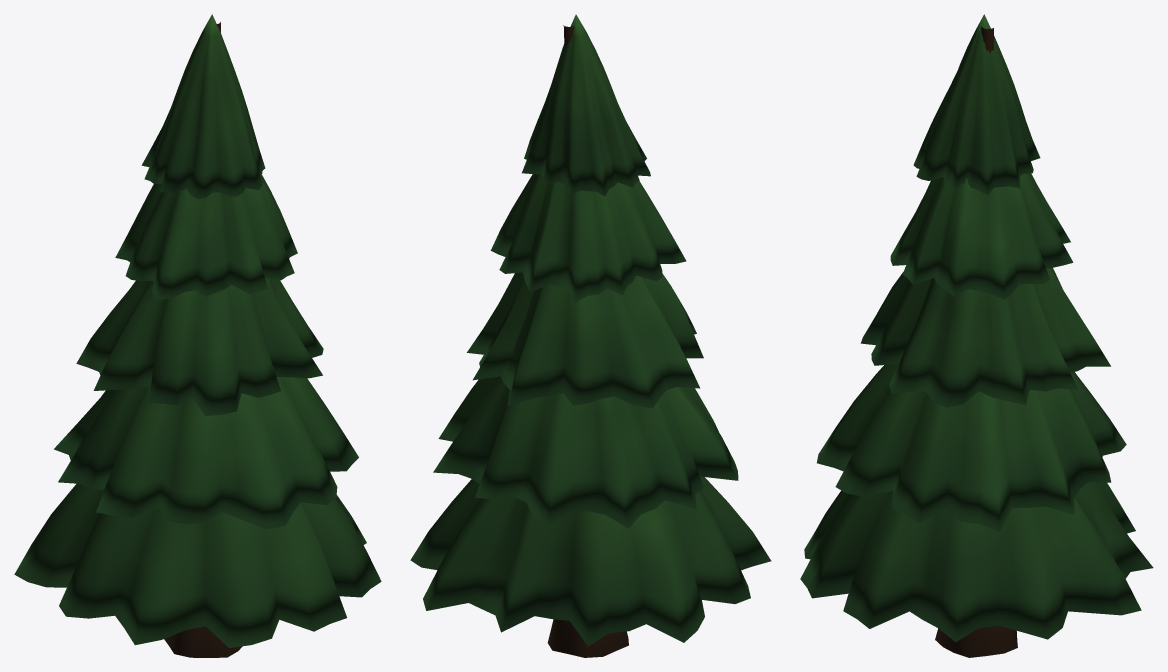
The model's file is pine.glb.
3 renders of one model, left to right at view 1: azimuth 30°, elevation 25°; view 2: azimuth 150°, elevation 25°; view 3: azimuth 270°, elevation 25°, orthographic.
Parts seen in each view (by area): view 1: pine; view 2: pine; view 3: pine.
Boxes of the visible parts, x1,y1,x2,y2 form: pine: (14,14,381,657); pine: (410,14,771,657); pine: (800,14,1153,657).
Bounding box in the file's own units: 7.81 × 15.45 × 7.85.
